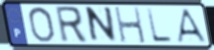A: (176, 7, 209, 44)
H: (113, 6, 148, 45)
L: (145, 8, 175, 44)
N: (86, 5, 119, 45)
O: (27, 6, 57, 44)
R: (53, 6, 90, 45)
